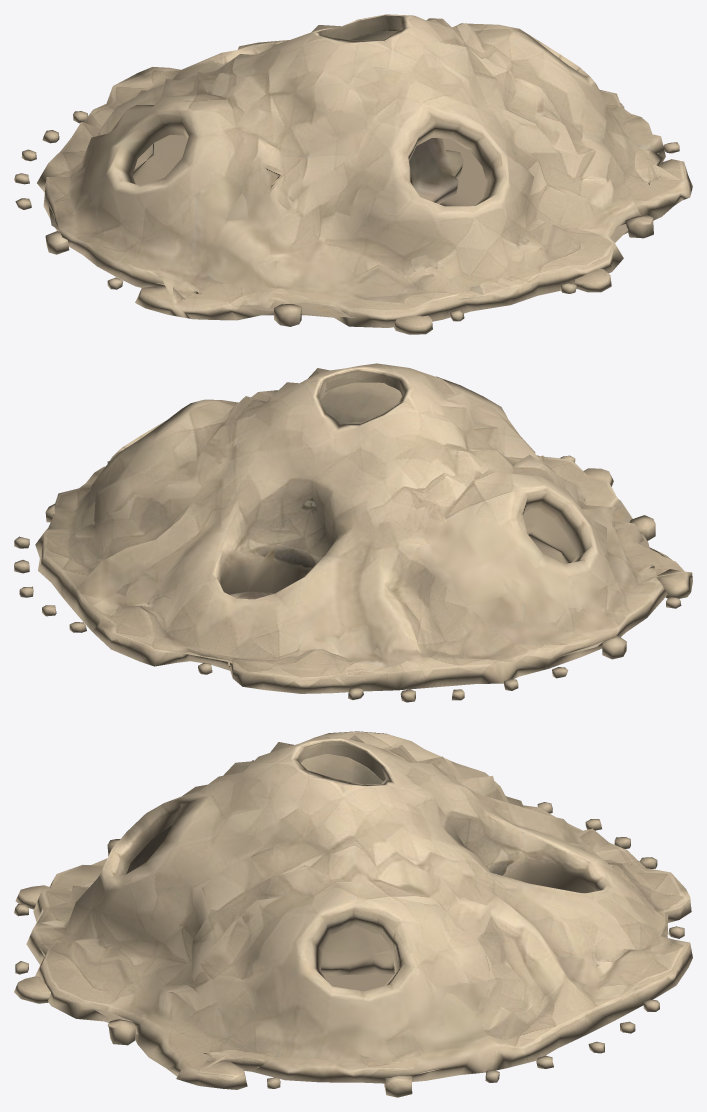
File: Cratered_Sand_Mound.glb
The picture shows the model from 3 angles, top to bottom: view 1: azimuth 30°, elevation 25°; view 2: azimuth 150°, elevation 25°; view 3: azimuth 270°, elevation 25°; orthographic projection. The views are drawn at different scales.
Bounding box in the file's own units: 1 × 0.3047 × 0.9648.
1 material, 1 textured.
